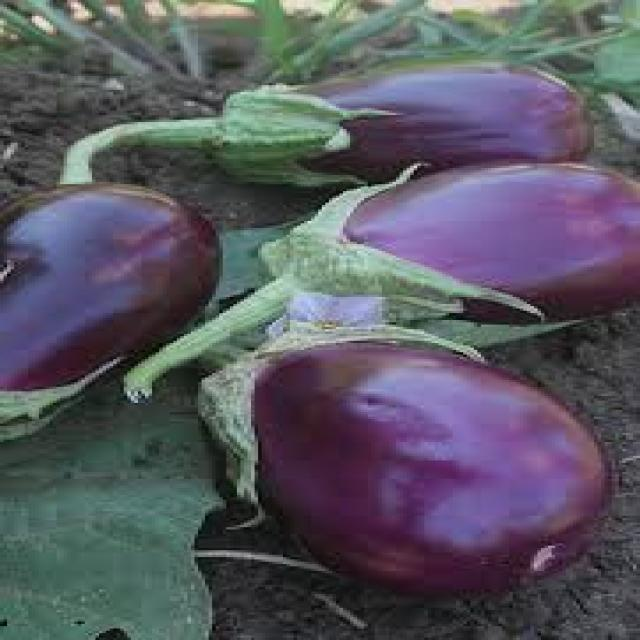eggplant: (213, 333, 605, 591), (312, 162, 638, 321), (217, 61, 592, 185)
